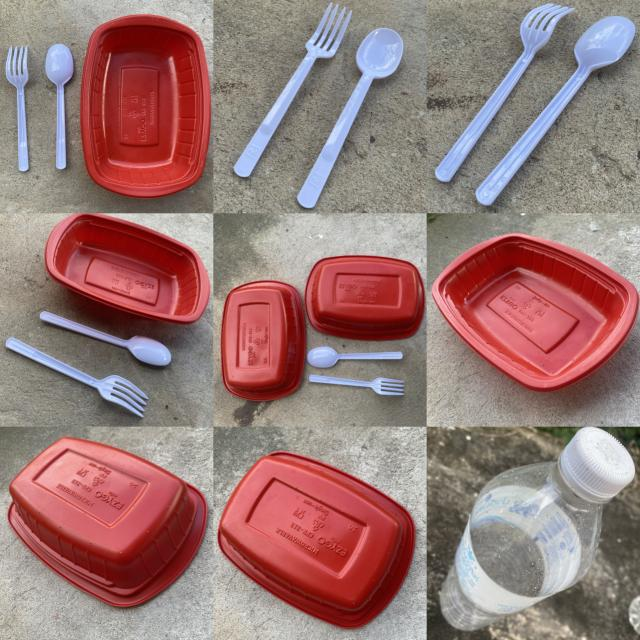Single-Use-Plastic: (218, 451, 415, 629), (8, 438, 208, 606), (432, 234, 639, 391), (476, 16, 635, 205), (435, 4, 574, 182), (81, 15, 211, 198), (234, 3, 351, 178), (298, 28, 404, 209), (45, 214, 210, 324), (6, 338, 148, 418), (305, 255, 425, 340), (221, 280, 305, 401), (40, 311, 171, 366), (45, 44, 74, 169), (5, 46, 29, 171), (308, 346, 402, 368), (309, 375, 404, 395)
